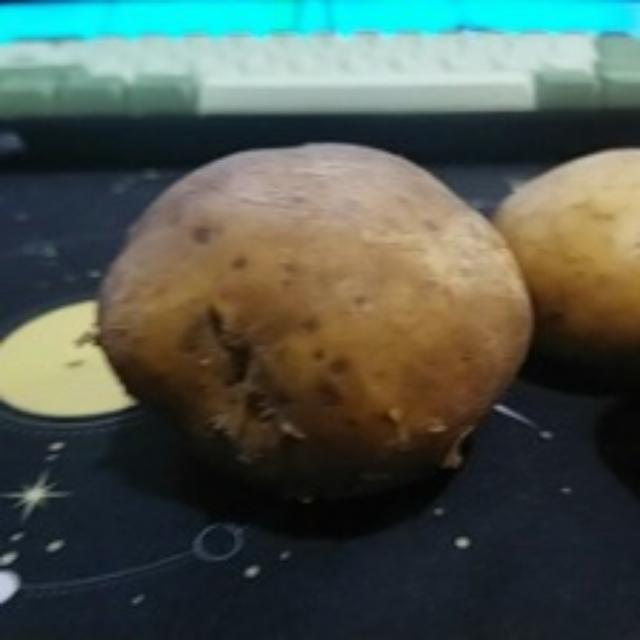Damaged potato: (88, 145, 530, 500)
Potato: (487, 146, 639, 370)
